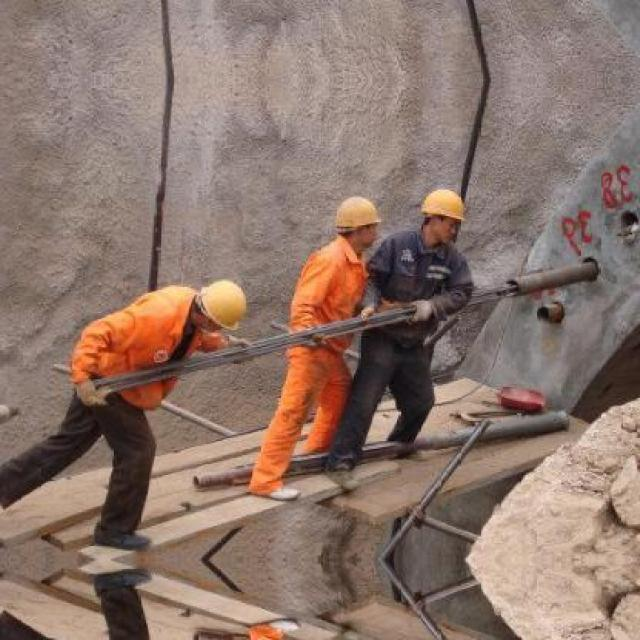Reflective-Jacket: (245, 234, 372, 492), (60, 285, 200, 415)
Safety-Helmet: (194, 271, 255, 338), (412, 180, 476, 232), (323, 190, 388, 240), (615, 160, 634, 179)
